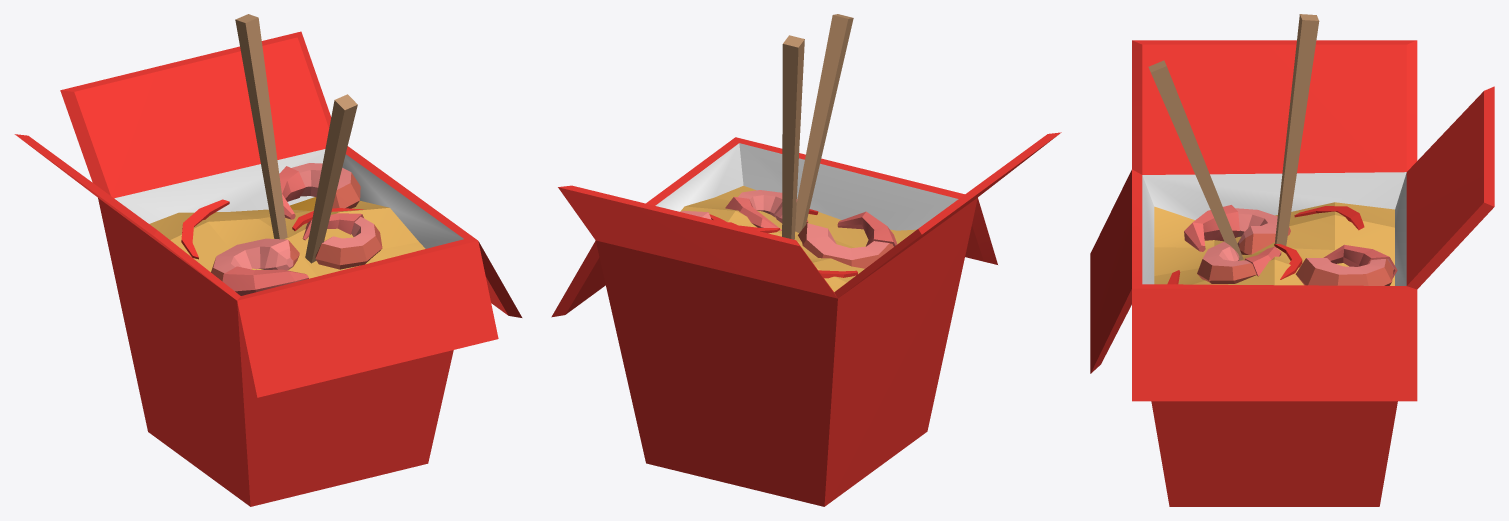
File: Wok_01.fbx
3 renders of one model, left to right at view 1: azimuth 30°, elevation 25°; view 2: azimuth 150°, elevation 25°; view 3: azimuth 270°, elevation 25°, orthographic. The views are drawn at different scales.
Visible parts, largest first — view 1: Wok_01; view 2: Wok_01; view 3: Wok_01.
Boxes of the visible parts, left/top/right/bottom form: Wok_01: left=14, top=14, right=522, bottom=506; Wok_01: left=551, top=14, right=1061, bottom=506; Wok_01: left=1090, top=14, right=1494, bottom=506.
Size of the model in its own units: 23.22 by 25.5 by 21.49.
